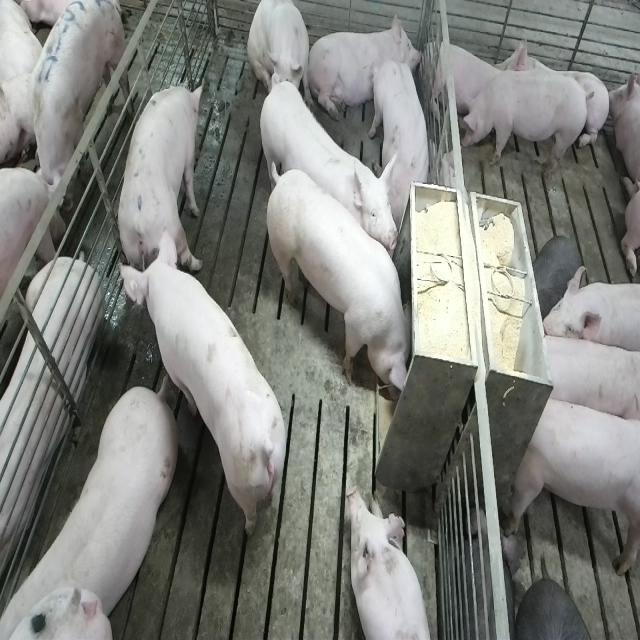Feeding: (270, 165, 421, 403)
Sitting: (248, 0, 312, 111)
Standing: (125, 243, 292, 545), (6, 377, 182, 634), (254, 78, 396, 261), (506, 390, 638, 585), (24, 0, 124, 221), (117, 81, 206, 287), (457, 66, 586, 178), (536, 333, 637, 431), (540, 266, 640, 356)
Sternal_lying: (498, 29, 608, 152), (346, 485, 432, 640), (312, 13, 422, 124), (426, 33, 500, 123), (608, 56, 640, 207)
